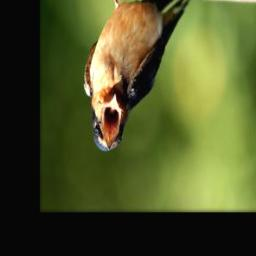Swallow: (83, 0, 192, 153)
